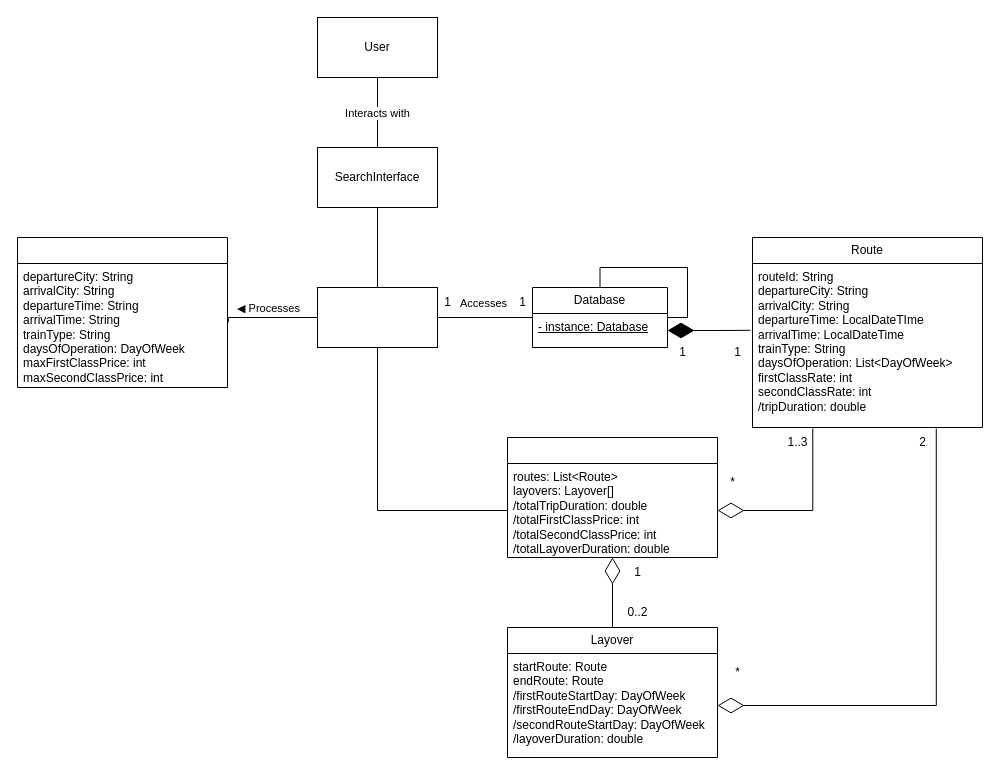
This 1000x778 diagram has some shape labels left out. The shapes that lost their labels are listed below. From the top down, each one's box as (x1, y1, x2, y2) in pixels, then its label:
(16, 236, 228, 388): SearchCriteria
(316, 286, 438, 348): SearchService
(506, 436, 718, 558): Connection
